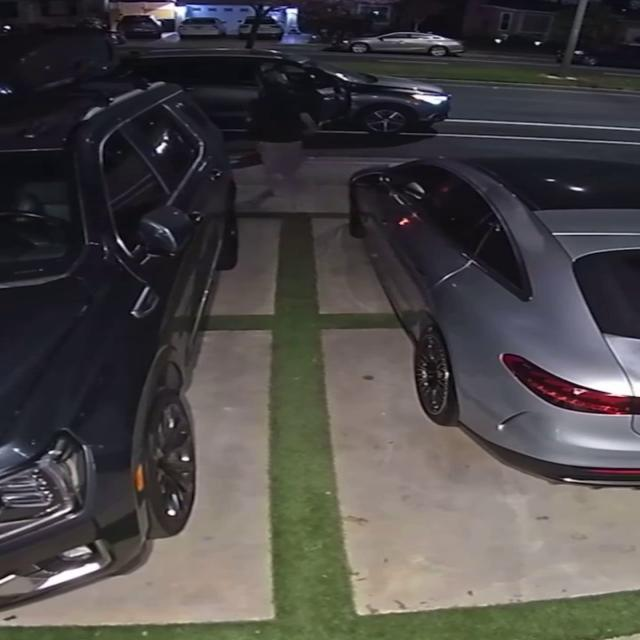Theft - Alert: (349, 157, 639, 489), (119, 53, 445, 147), (247, 68, 316, 205)
